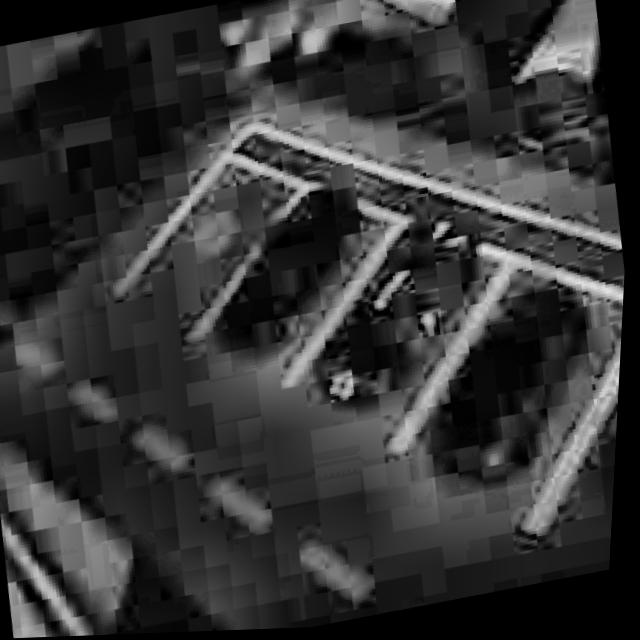car: (292, 202, 515, 431), (407, 270, 621, 505), (191, 169, 398, 391)
